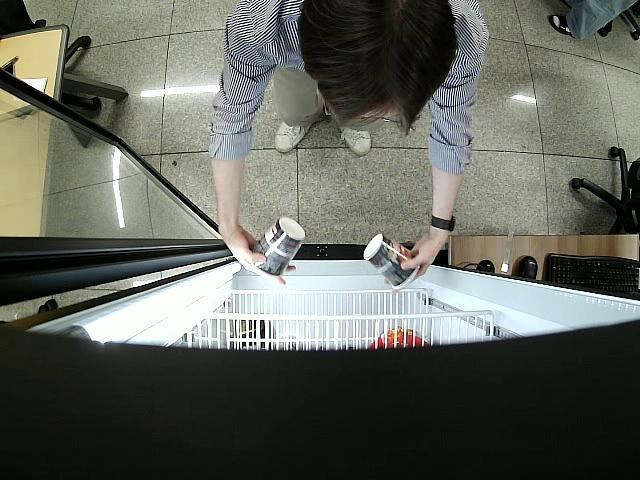08_buldak_S: (250, 216, 306, 276), (365, 232, 420, 291)
